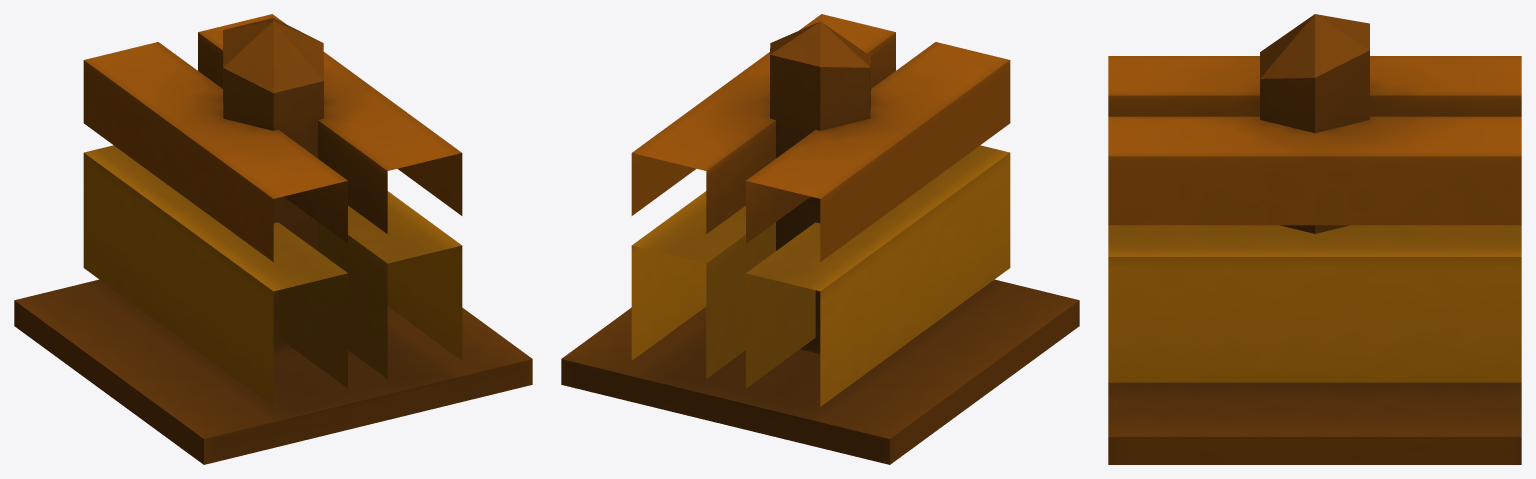
Rendered from BarriereBois_I.FBX.
3 views of the same model, side by side, from view 1: azimuth 30°, elevation 25°; view 2: azimuth 150°, elevation 25°; view 3: azimuth 270°, elevation 25° (orthographic). The views are drawn at different scales.
Parts seen in each view (by area): view 1: BarriereBois_I; view 2: BarriereBois_I; view 3: BarriereBois_I.
Boxes of the visible parts, <box> form: BarriereBois_I: <box>14,14,532,464</box>; BarriereBois_I: <box>561,14,1079,464</box>; BarriereBois_I: <box>1108,14,1521,464</box>.
Size of the model in its own units: 1 by 0.9713 by 1.
